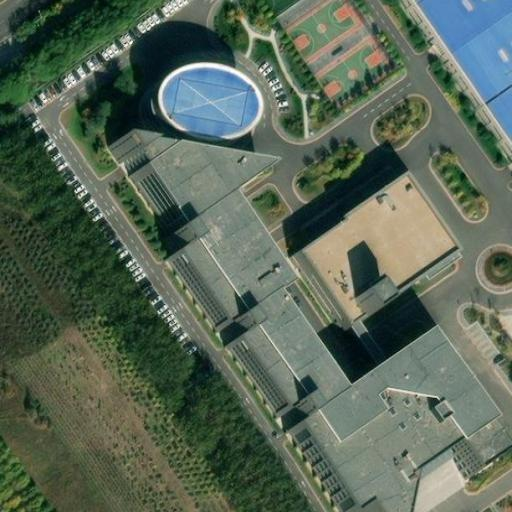building: (109, 136, 497, 512), (301, 171, 457, 322), (162, 64, 259, 140)
